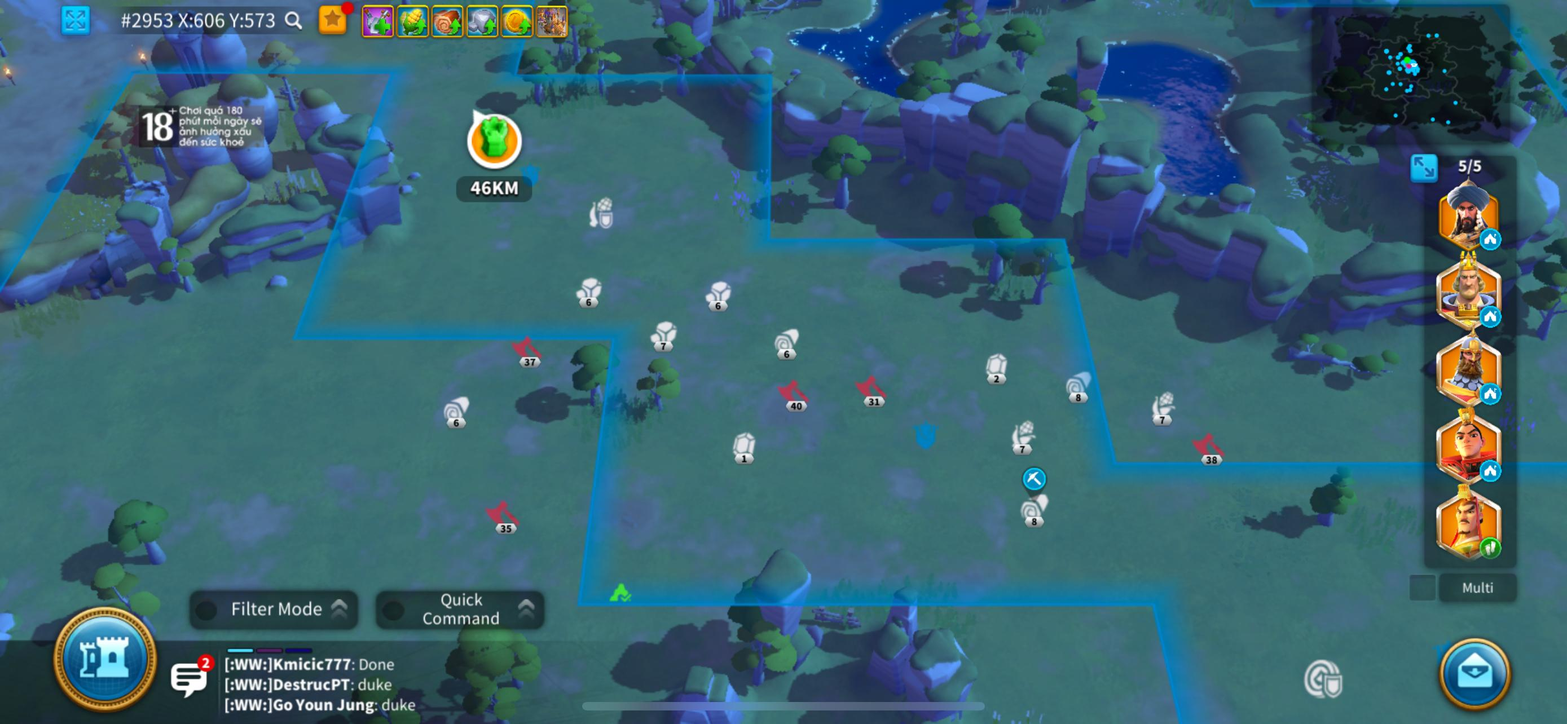gem-z-out: (731, 431, 757, 460), (985, 352, 1009, 379)
march_idle: (1479, 382, 1503, 407), (1479, 228, 1503, 251), (1479, 305, 1502, 329), (1479, 459, 1502, 483)
march_marching: (1479, 537, 1503, 560)
